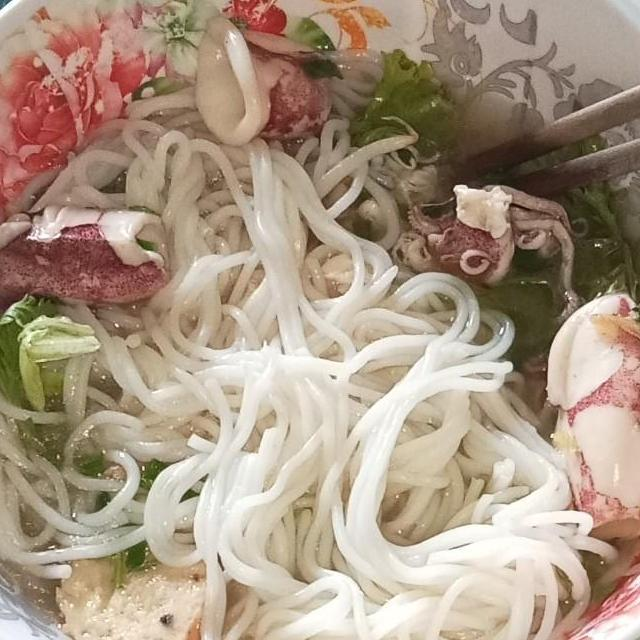bun: (140, 132, 525, 572), (193, 417, 626, 640), (0, 289, 158, 585), (11, 76, 244, 221)
muc: (386, 177, 585, 329), (536, 285, 640, 547), (0, 196, 179, 323), (189, 11, 342, 146)
